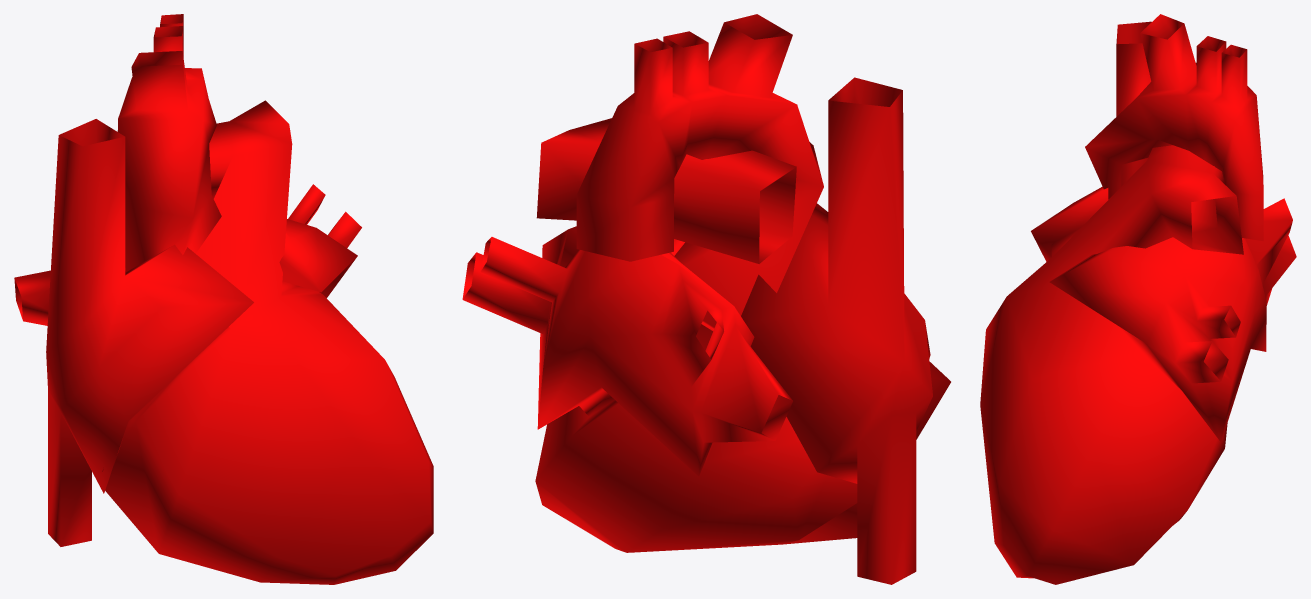
The model's file is asset.glb.
The picture shows the model from 3 angles, left to right: view 1: azimuth 30°, elevation 25°; view 2: azimuth 150°, elevation 25°; view 3: azimuth 270°, elevation 25°; orthographic projection. The views are drawn at different scales.
Size of the model in its own units: 0.0875 by 0.12 by 0.072.
